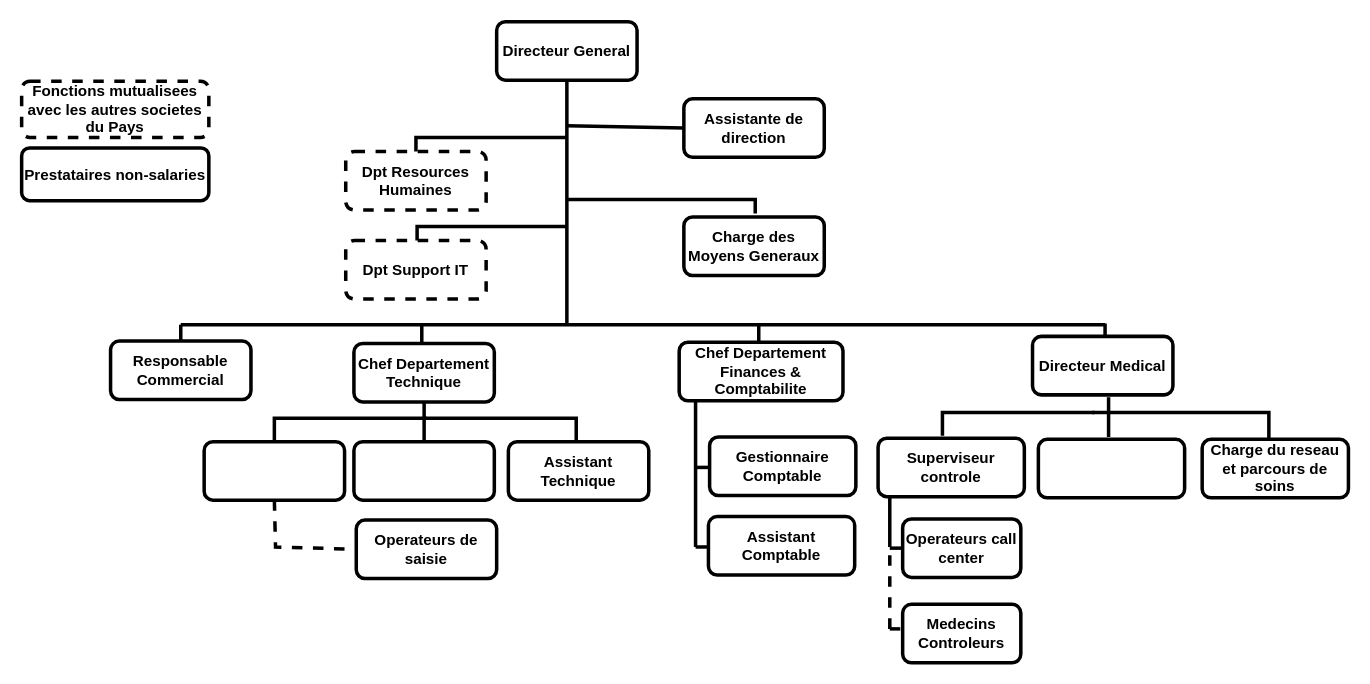
This 1370x684 diagram has some shape labels left out. The centre of each missing label's shape, as x and y in pixels:
Charge de gestion des produits et services: point 1111,468
Charge de production et Communication: point 423,470
Charge des sinistres et de la relation Clients: point 274,470
